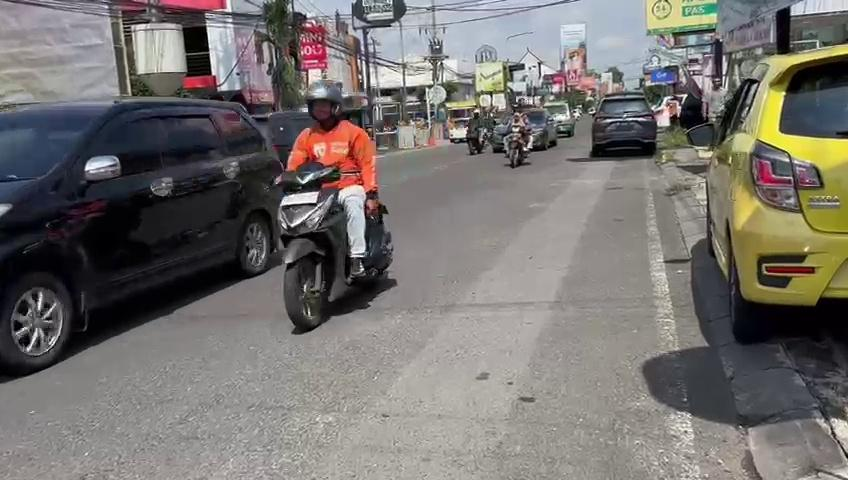helm: (299, 76, 348, 129)
riding: (260, 73, 405, 341)
